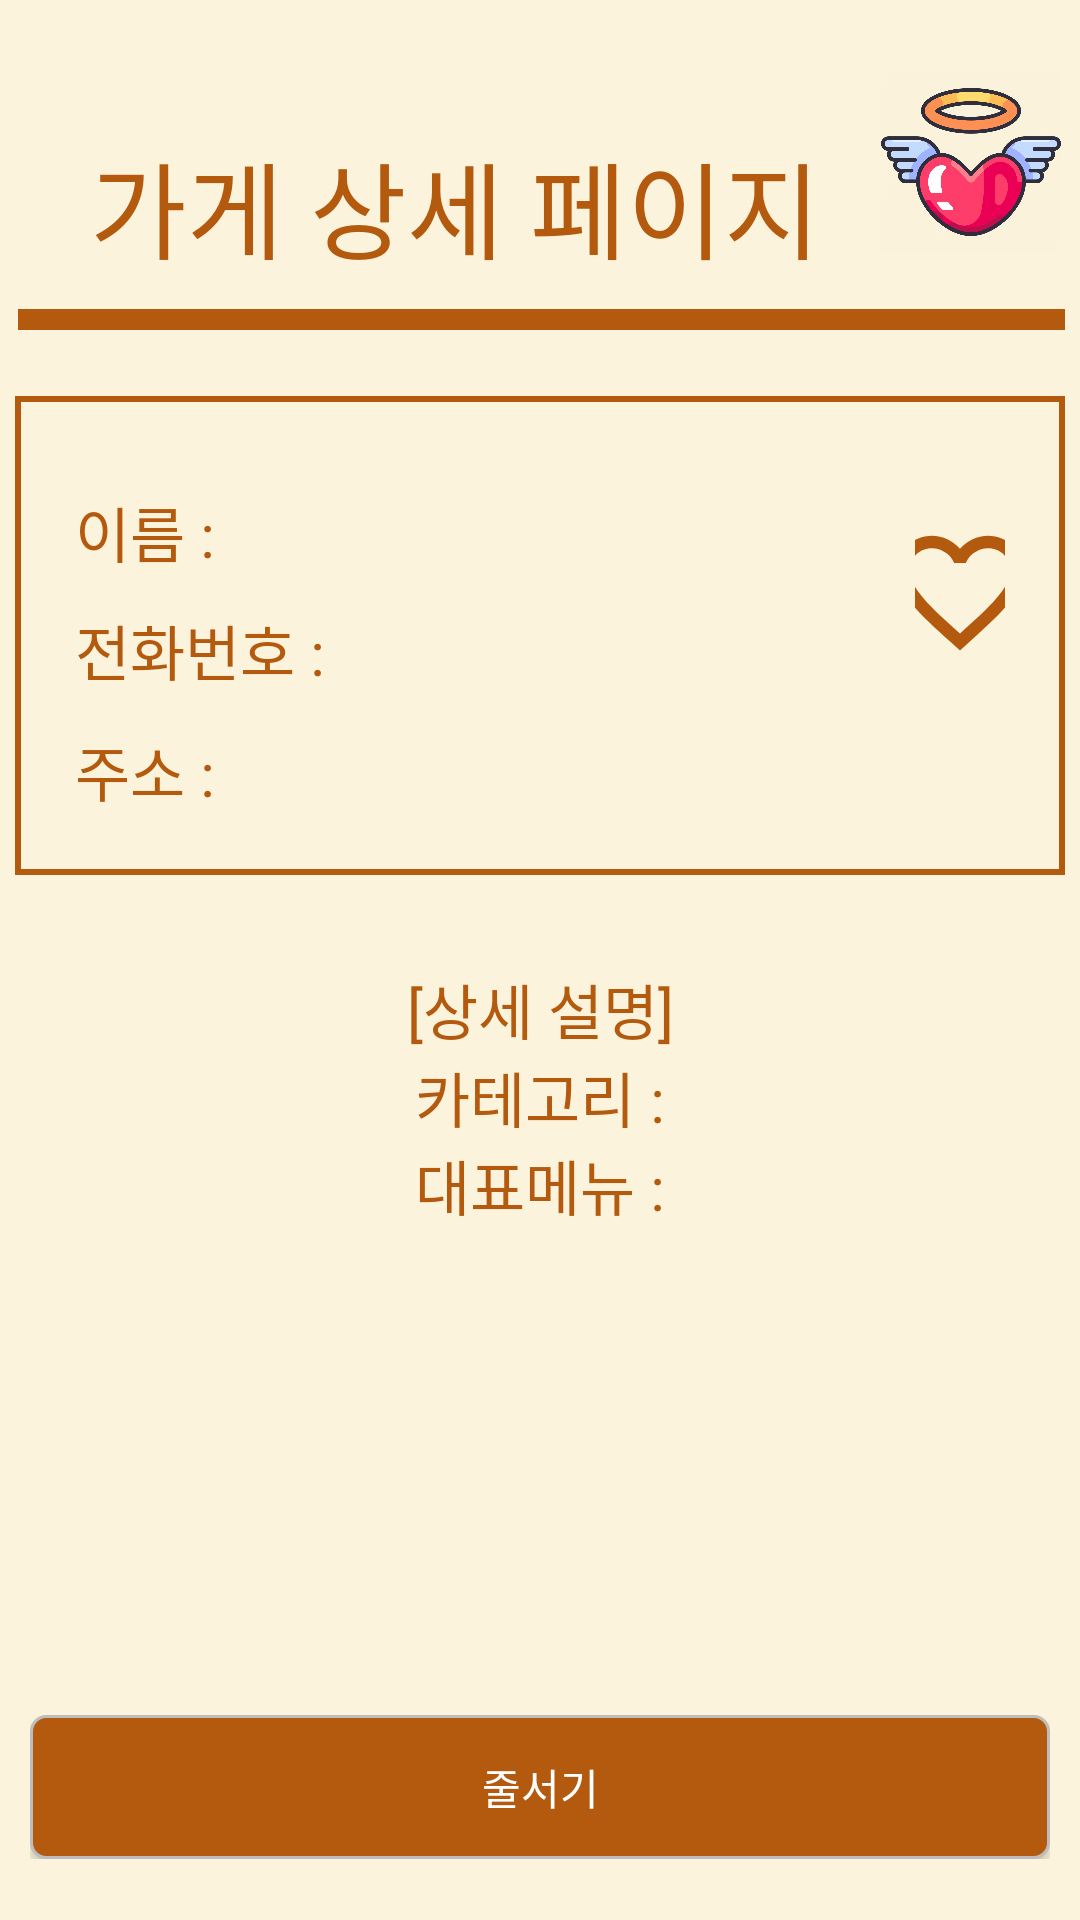

Named icons in this screenshot (1080*1920) and their centers, (x=x, y=y):
angel: (x=971, y=162)
